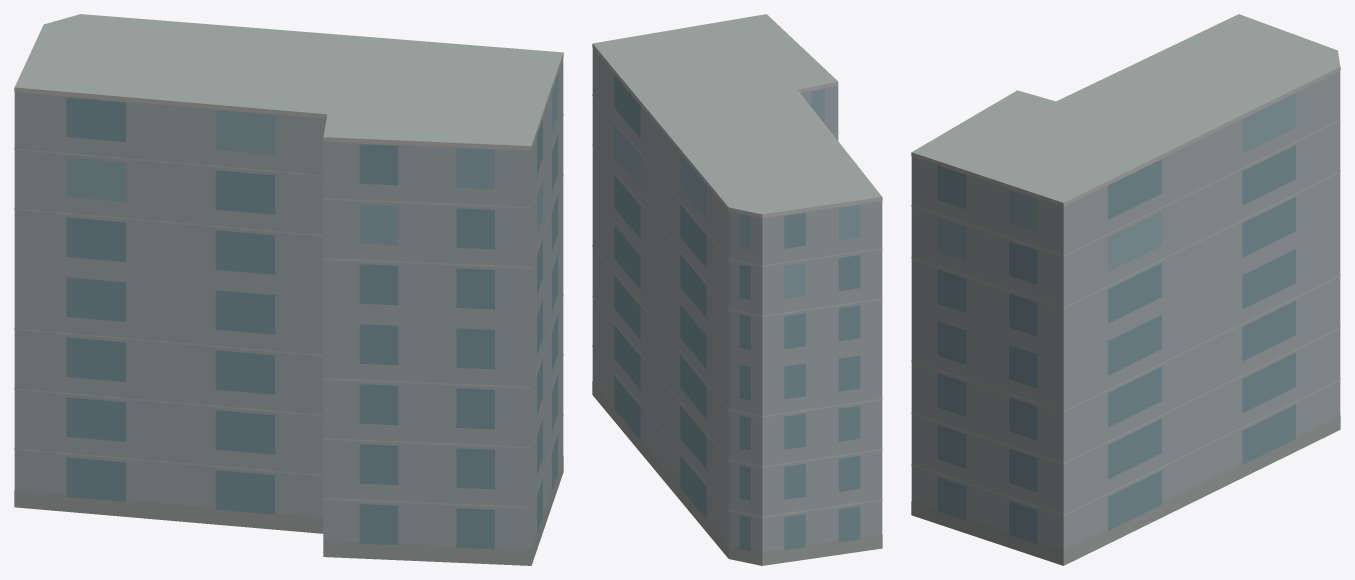
The model's file is survey-upis-32727620.glb.
3 views of the same model, side by side, from view 1: azimuth 30°, elevation 25°; view 2: azimuth 150°, elevation 25°; view 3: azimuth 270°, elevation 25° (orthographic). The views are drawn at different scales.
Visible parts, largest first — view 1: survey-upis-32727620.tmp; view 2: survey-upis-32727620.tmp; view 3: survey-upis-32727620.tmp.
Boxes of the visible parts, left/top/right/bottom form: survey-upis-32727620.tmp: left=14, top=14, right=563, bottom=565; survey-upis-32727620.tmp: left=592, top=14, right=882, bottom=565; survey-upis-32727620.tmp: left=911, top=14, right=1340, bottom=565.
Bounding box in the file's own units: 24.79 × 22.2 × 23.8.
